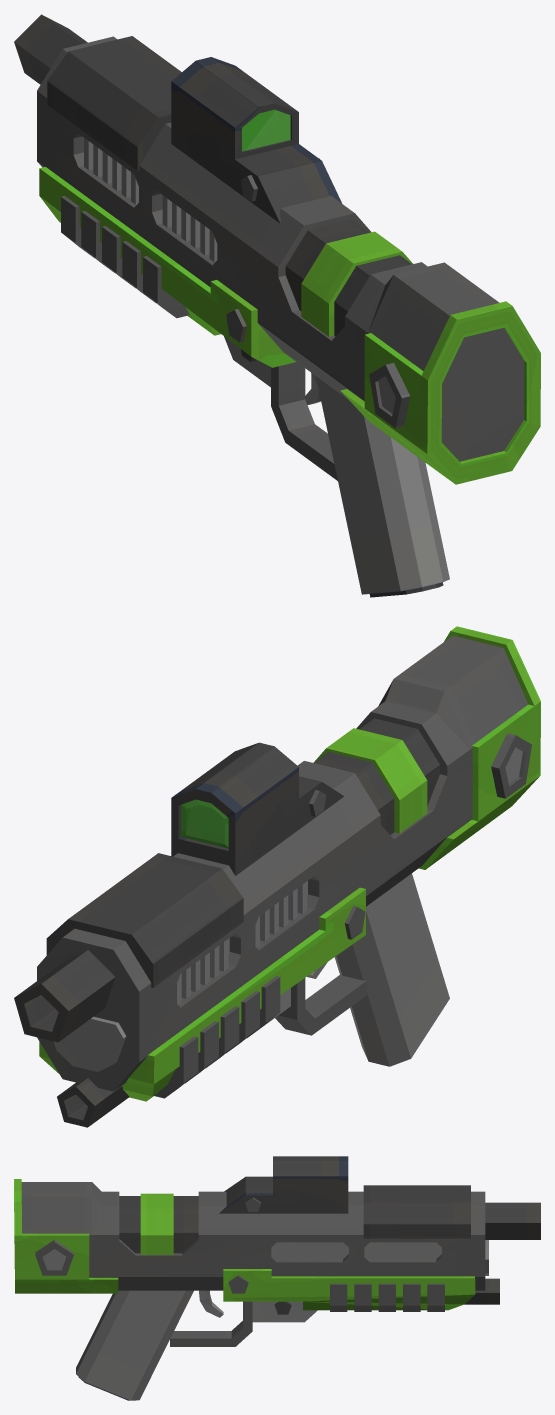
Rendered from rifle_4.glb.
The picture shows the model from 3 angles, top to bottom: view 1: azimuth 30°, elevation 25°; view 2: azimuth 150°, elevation 25°; view 3: azimuth 270°, elevation 25°; orthographic projection. The views are drawn at different scales.
Parts seen in each view (by area): view 1: fusil_4_texture_0; view 2: fusil_4_texture_0; view 3: fusil_4_texture_0.
Part boxes in pixels (<box>): fusil_4_texture_0: <box>14,14,540,597</box>; fusil_4_texture_0: <box>14,626,540,1127</box>; fusil_4_texture_0: <box>14,1156,540,1400</box>.
Size of the model in its own units: 0.1063 by 0.3146 by 0.6273.
Materials: 1 (1 with a texture image).
